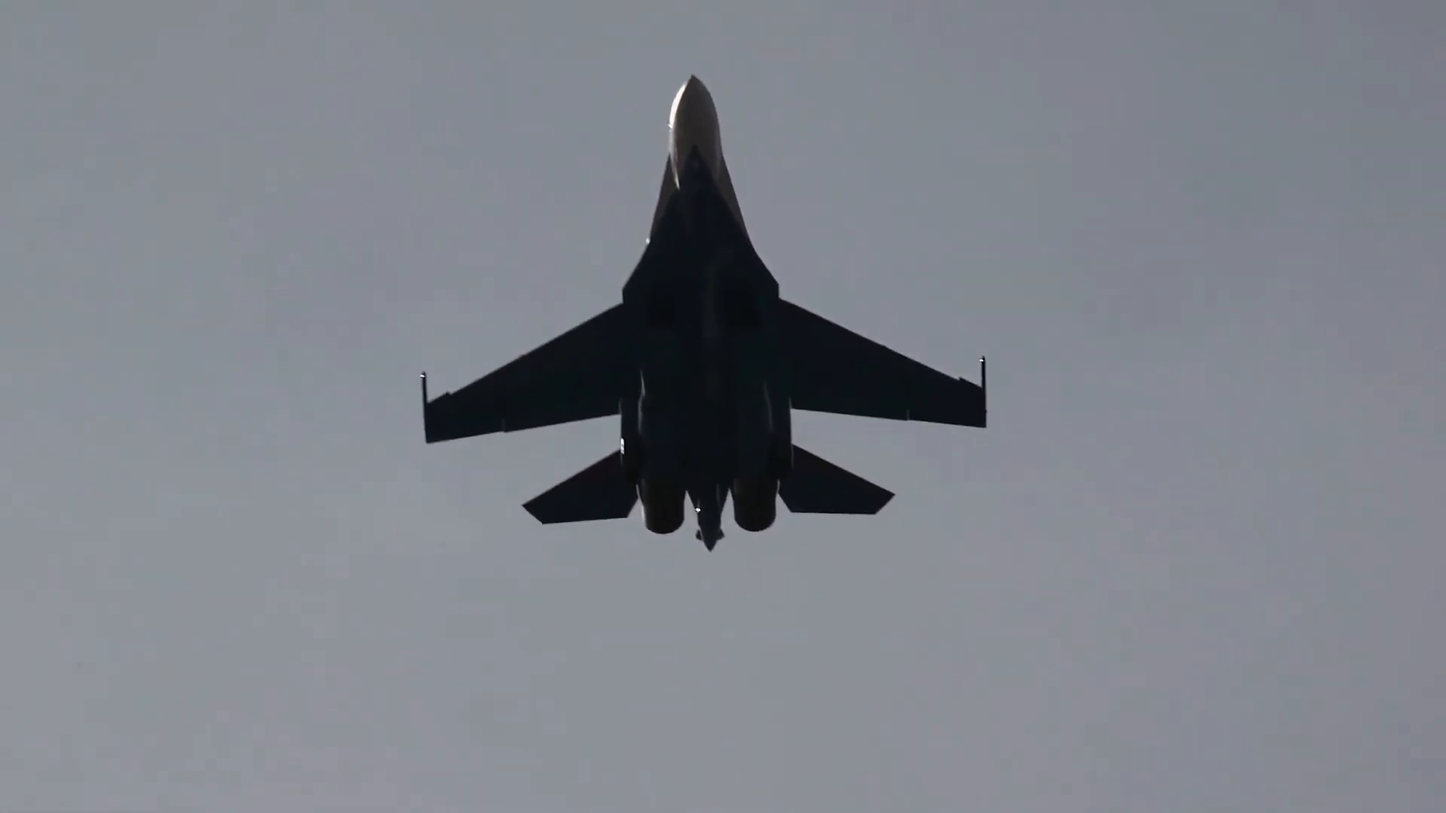Su35: (421, 75, 987, 551)
